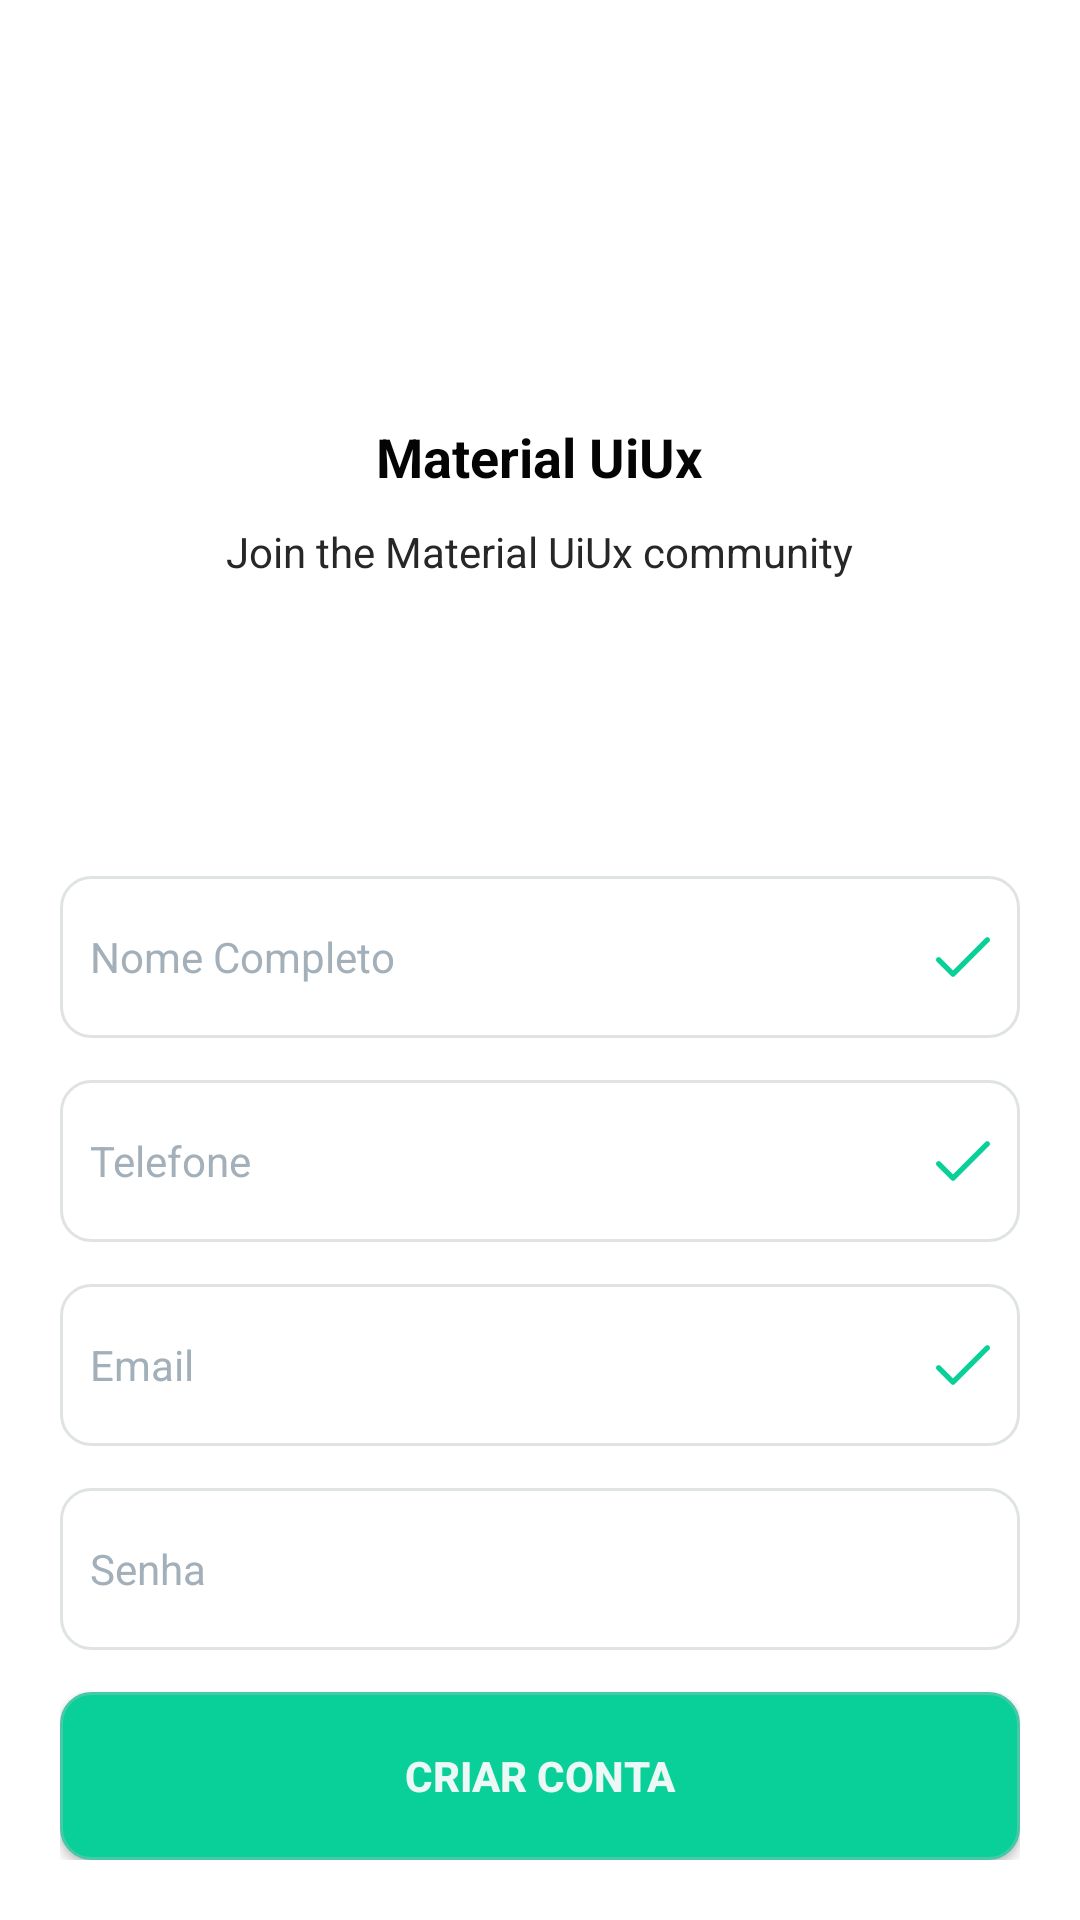

Named icons in this screenshot (1080×1920) and their bounding boxes, (x1,y1,x2,y2):
checkmark: (936,937,990,977), (936,1141,990,1181), (936,1345,990,1385)
